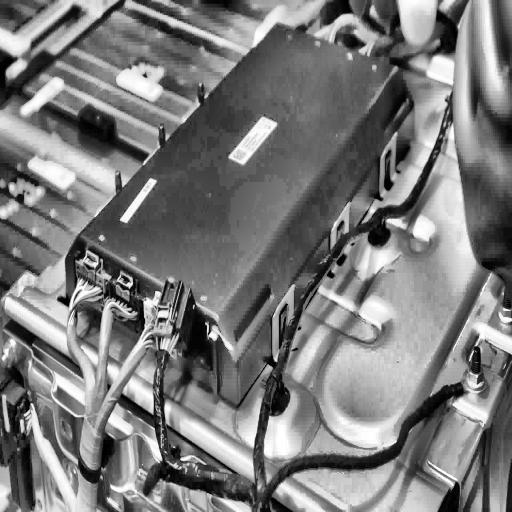bms_unit: (65, 21, 416, 409)
